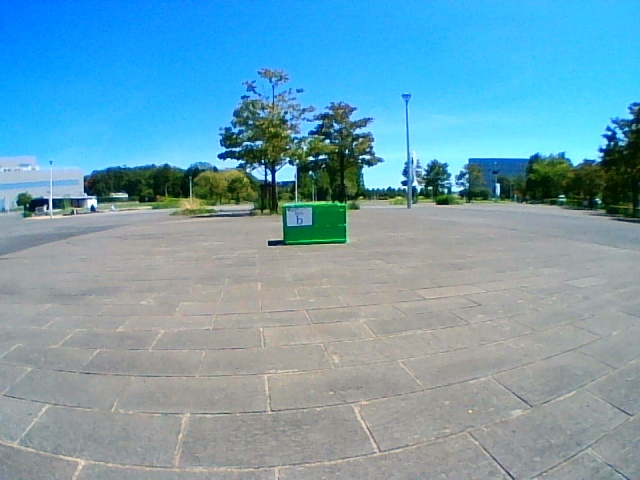green_box: (283, 202, 346, 244)
tag_b: (286, 208, 311, 225)
